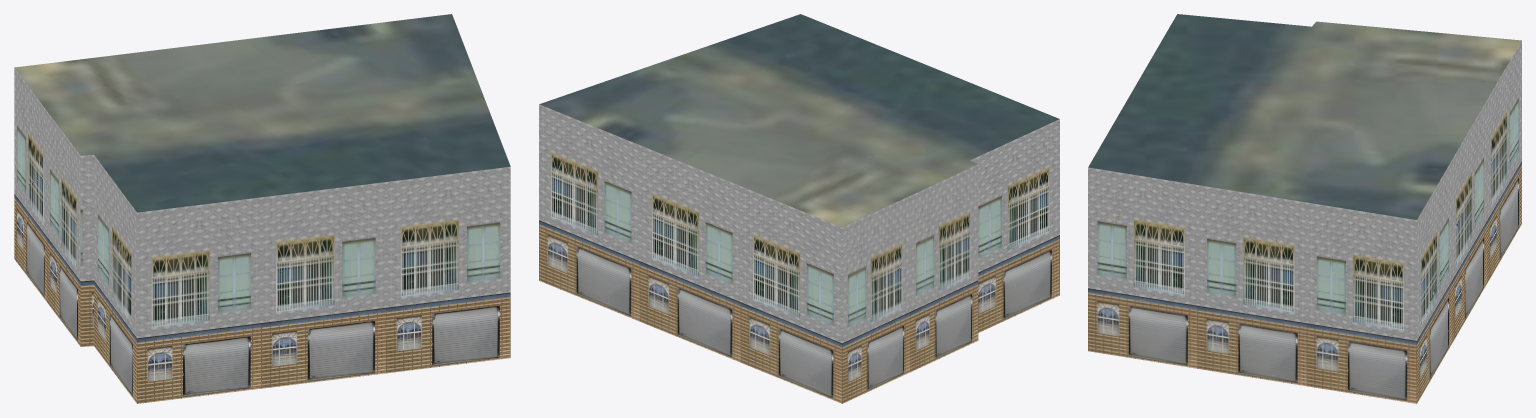
3 views of the same model, side by side, from view 1: azimuth 30°, elevation 25°; view 2: azimuth 150°, elevation 25°; view 3: azimuth 270°, elevation 25° (orthographic). The views are drawn at different scales.
Parts seen in each view (by area): view 1: SketchUp (×3); view 2: SketchUp (×3); view 3: SketchUp (×3).
Part boxes in pixels (x1,y1,x2,y2): SketchUp (×3): (14, 14, 510, 403); SketchUp (×3): (539, 14, 1059, 403); SketchUp (×3): (1088, 14, 1521, 403).
Bounding box in the file's own units: 911 × 810 × 379.
Materials: 3 (3 with a texture image).
